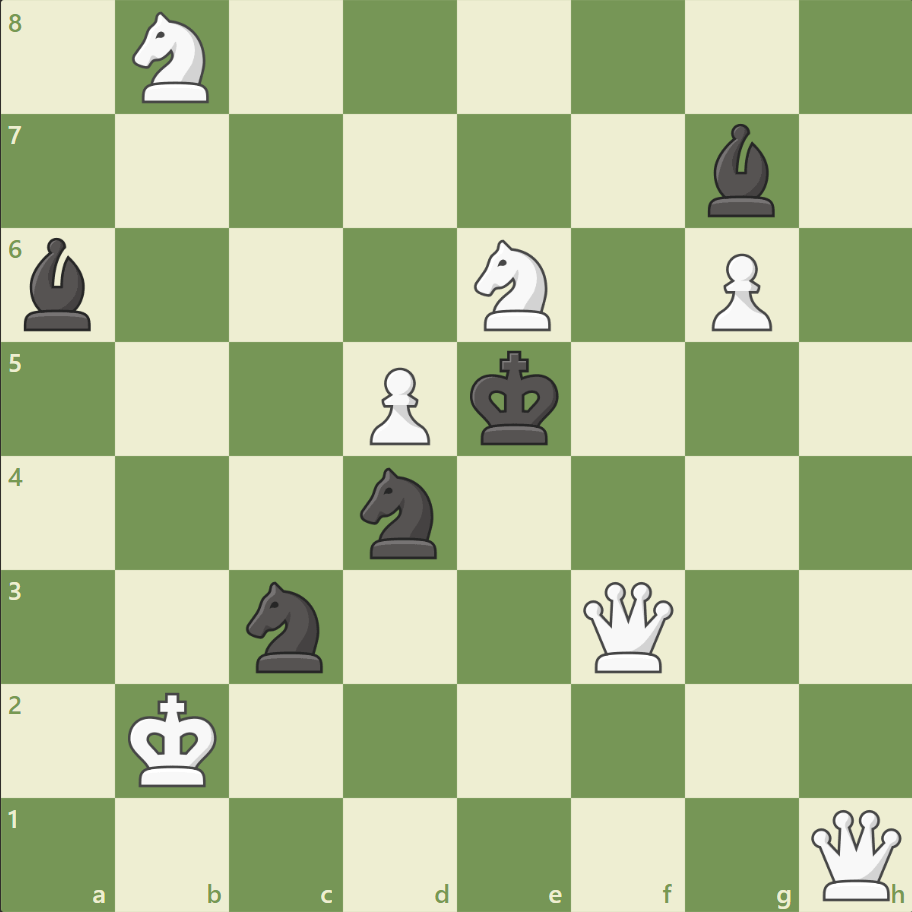K: (124, 685, 224, 793)
N: (124, 7, 222, 110), (465, 234, 562, 337)
P: (701, 246, 776, 337), (361, 359, 435, 450)
Q: (578, 576, 677, 676), (805, 804, 904, 903)
b: (17, 233, 101, 336), (698, 120, 782, 222)
k: (465, 344, 565, 452)
n: (351, 461, 449, 564), (238, 575, 335, 677)
